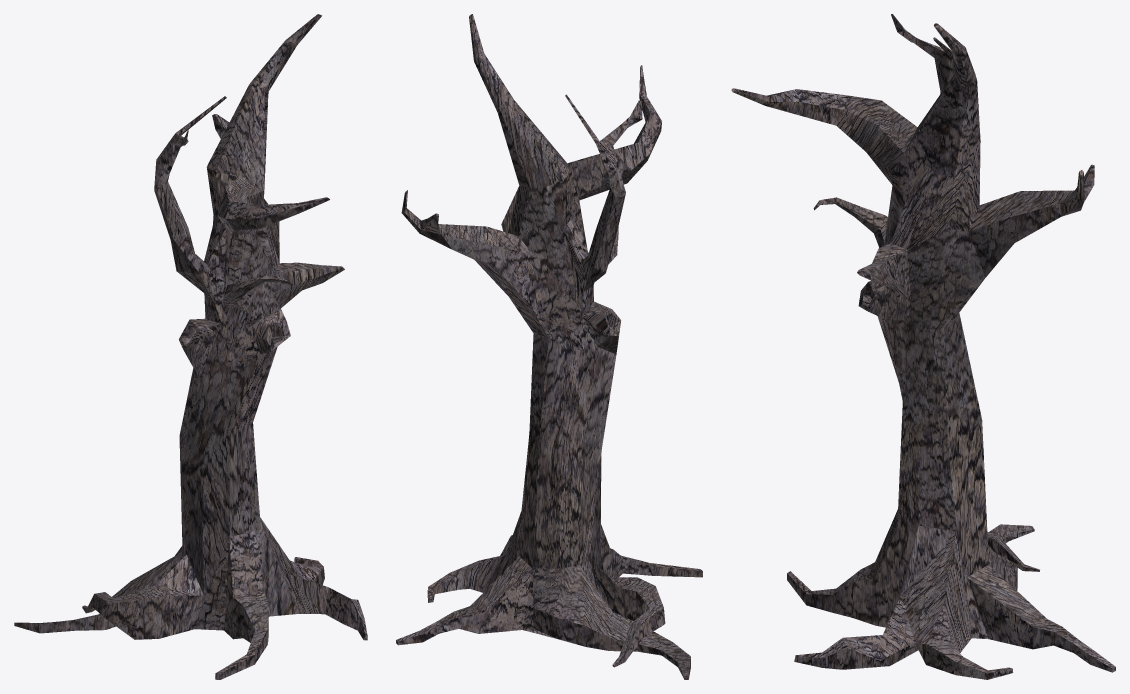
File: TREE_ANGRY_003.fbx
The picture shows the model from 3 angles, left to right: view 1: azimuth 30°, elevation 25°; view 2: azimuth 150°, elevation 25°; view 3: azimuth 270°, elevation 25°; orthographic projection. The views are drawn at different scales.
Parts seen in each view (by area): view 1: TREE; view 2: TREE; view 3: TREE.
Boxes of the visible parts, x1,y1,x2,y2 form: TREE: (14,14,367,679); TREE: (396,14,702,679); TREE: (731,14,1115,679).
Bounding box in the file's own units: 1.97 × 3.85 × 2.06.
Materials: 1 (1 with a texture image).
